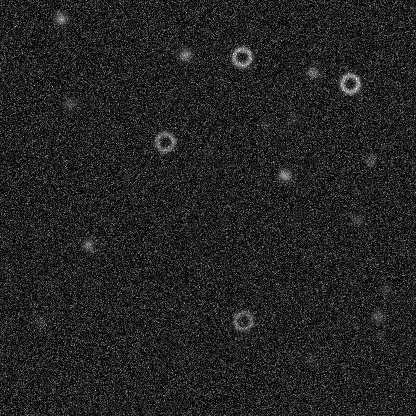Ring: (152, 129, 176, 153), (230, 308, 254, 332), (337, 71, 361, 95), (229, 44, 253, 68)
Spot: (199, 145, 215, 161), (285, 110, 301, 126), (276, 167, 292, 183), (52, 11, 68, 27), (376, 282, 392, 298), (242, 20, 258, 36), (33, 313, 49, 329), (177, 46, 193, 62), (304, 64, 320, 80), (370, 308, 386, 324), (371, 327, 387, 343), (79, 236, 95, 252), (61, 96, 77, 112), (362, 152, 378, 168), (257, 119, 273, 135), (302, 350, 318, 366), (349, 211, 365, 227)
